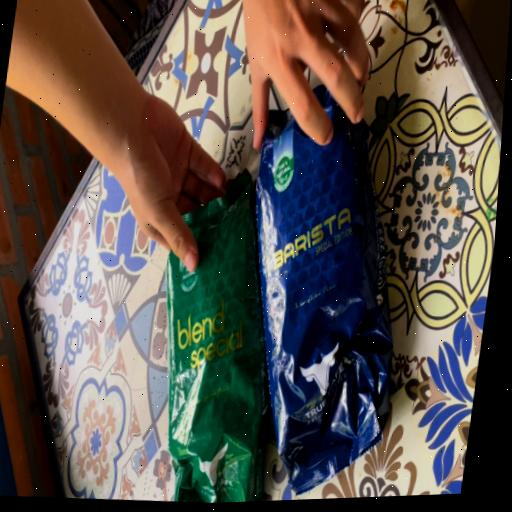cafe_hat: (255, 85, 393, 493)
cafe_xay: (167, 170, 270, 503)
